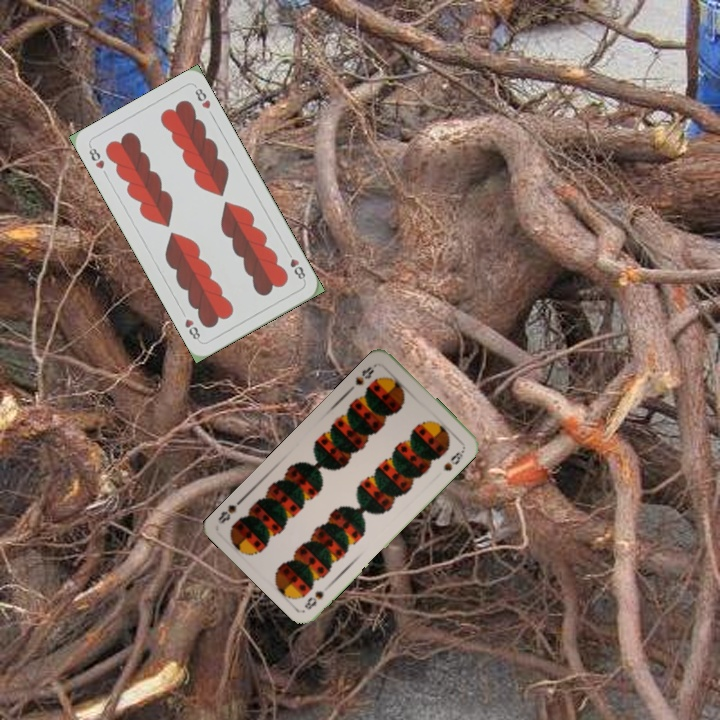H8: (283, 247, 308, 284), (85, 142, 107, 172)
S8: (300, 579, 334, 612), (351, 360, 380, 388)
